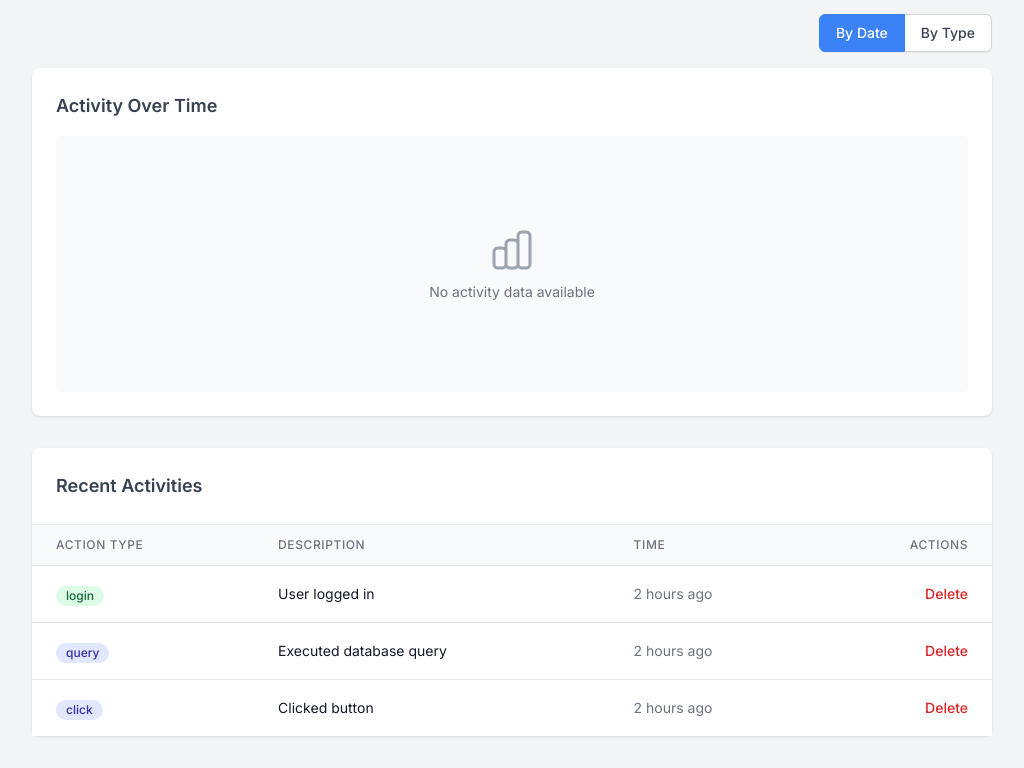
Test: Dashboard Page › Delete functionality › cancel button in confirmation modal closes it
This screenshot has width=1024, height=768.
(page scrolled)
// Open confirmation
Click the button "Delete" in the row of "login".
click(947, 594)  # box top-left (925, 584), bottom-right (968, 604)
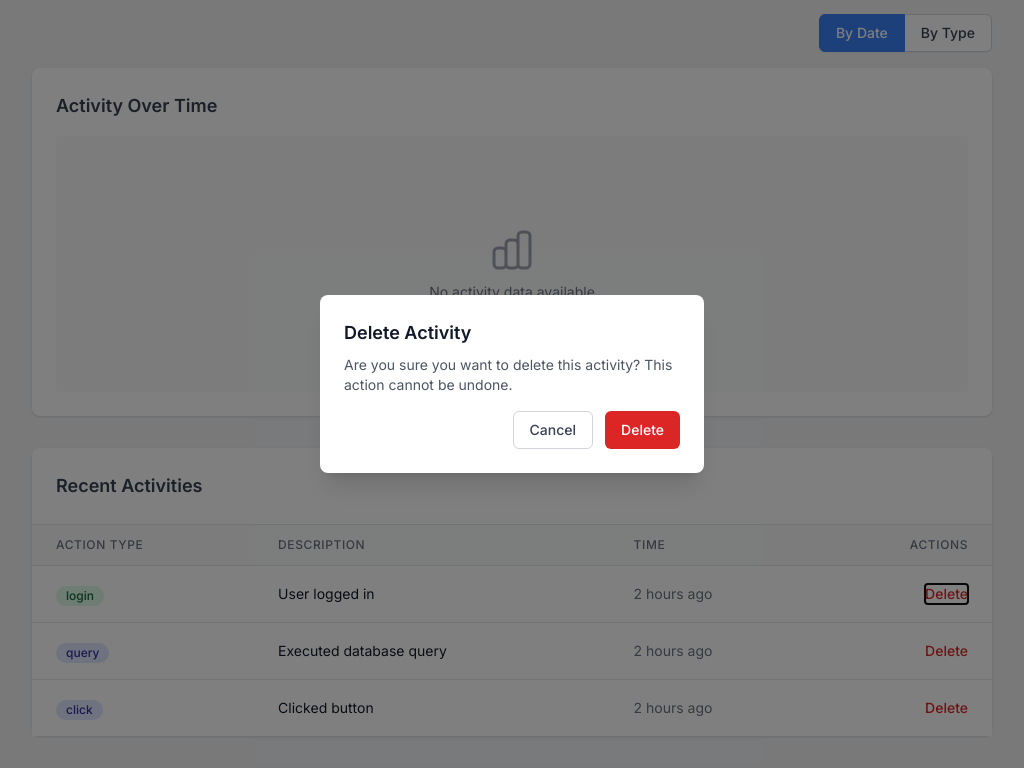
// Click cancel
Click the button "Cancel".
click(553, 430)  # box top-left (513, 411), bottom-right (593, 449)
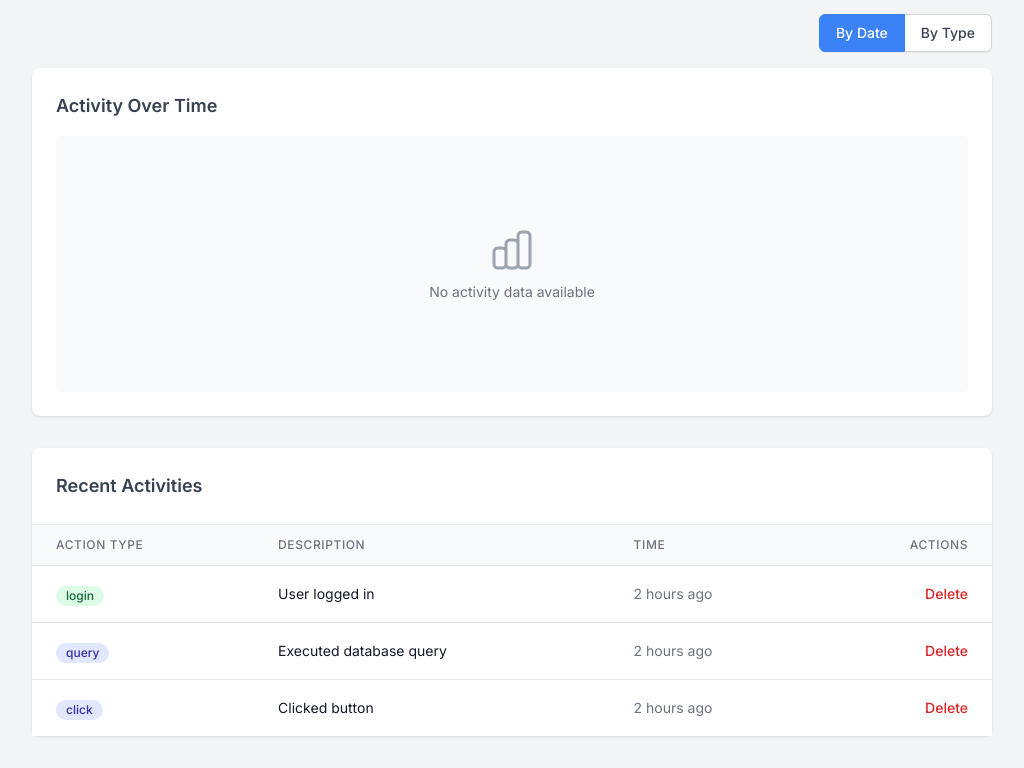
Check: the text "Are you sure you want to delete" is gone
